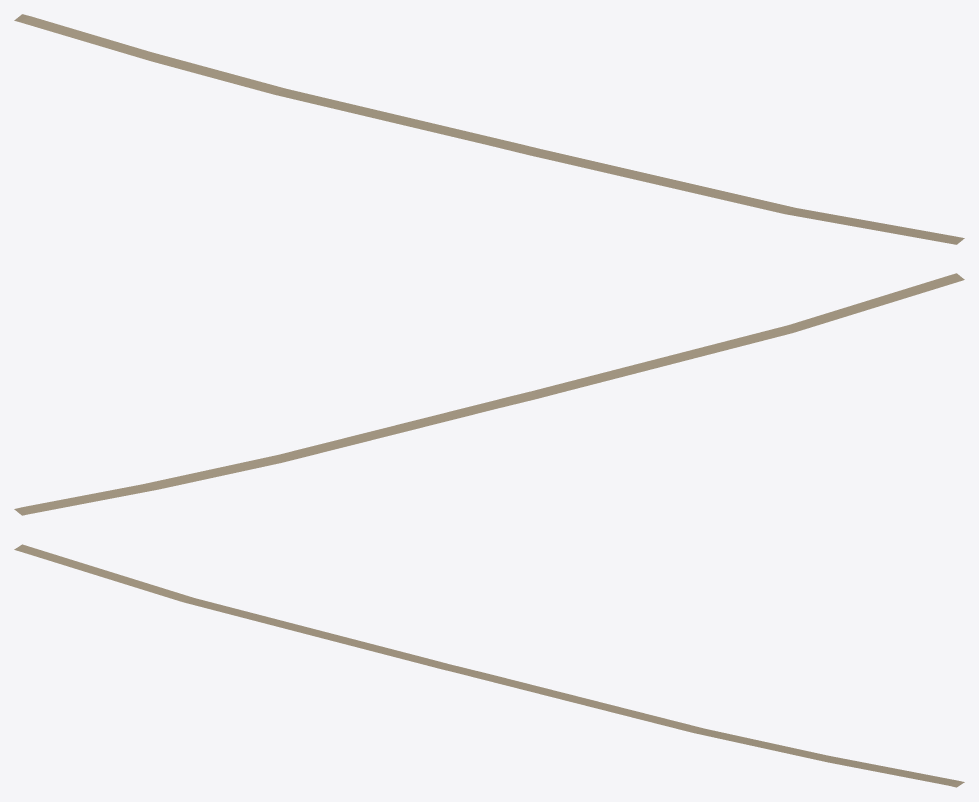
File: farm_-9_8_track.glb
3 views of the same model, one above another, from view 1: azimuth 90°, elevation 25°; view 2: azimuth 150°, elevation 25°; view 3: azimuth 270°, elevation 25° (orthographic).
Parts seen in each view (by area): view 1: geometry_0; view 2: geometry_0; view 3: geometry_0.
Part boxes in pixels (<box>): geometry_0: <box>14,14,964,244</box>; geometry_0: <box>14,273,964,515</box>; geometry_0: <box>14,544,964,787</box>.
Size of the model in its own units: 111 by 3.87 by 189.
